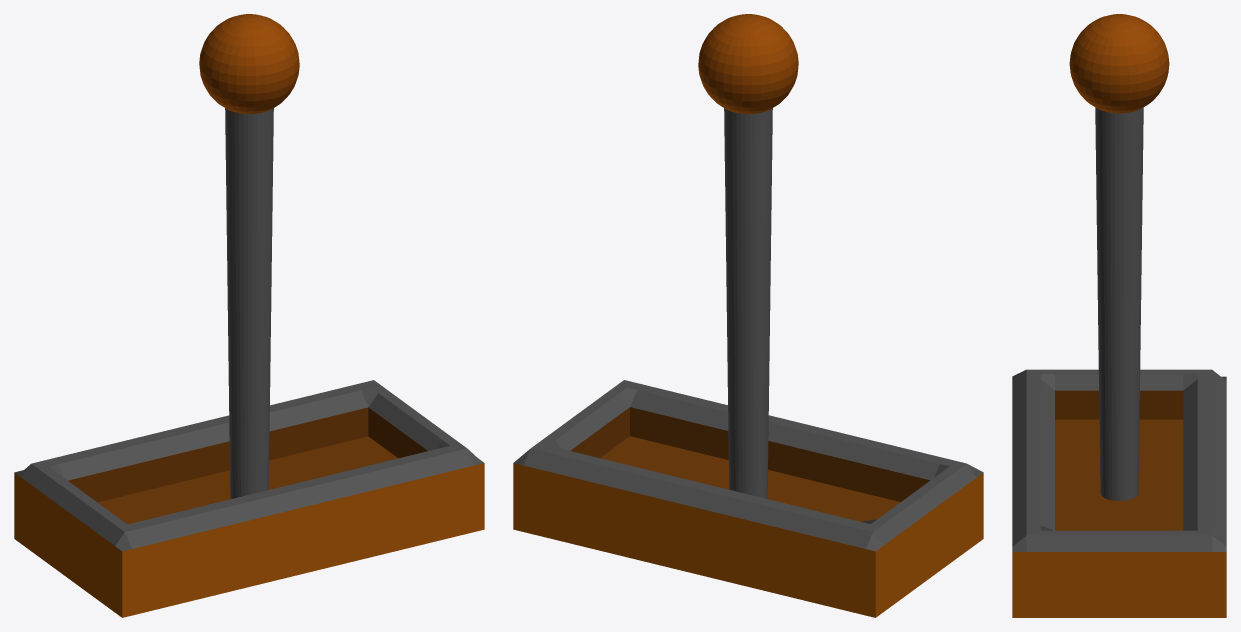
File: lever.fbx
3 renders of one model, left to right at view 1: azimuth 30°, elevation 25°; view 2: azimuth 150°, elevation 25°; view 3: azimuth 270°, elevation 25°, orthographic.
Visible parts, largest first — view 1: Cube, Cylinder; view 2: Cube, Cylinder; view 3: Cube, Cylinder.
Boxes of the visible parts, left/top/right/bottom form: Cube: left=14, top=380, right=484, bottom=617; Cylinder: left=199, top=14, right=299, bottom=498; Cube: left=513, top=380, right=983, bottom=617; Cylinder: left=698, top=14, right=798, bottom=498; Cube: left=1012, top=369, right=1226, bottom=617; Cylinder: left=1069, top=14, right=1169, bottom=500.
Size of the model in its own units: 467 by 635 by 241.
